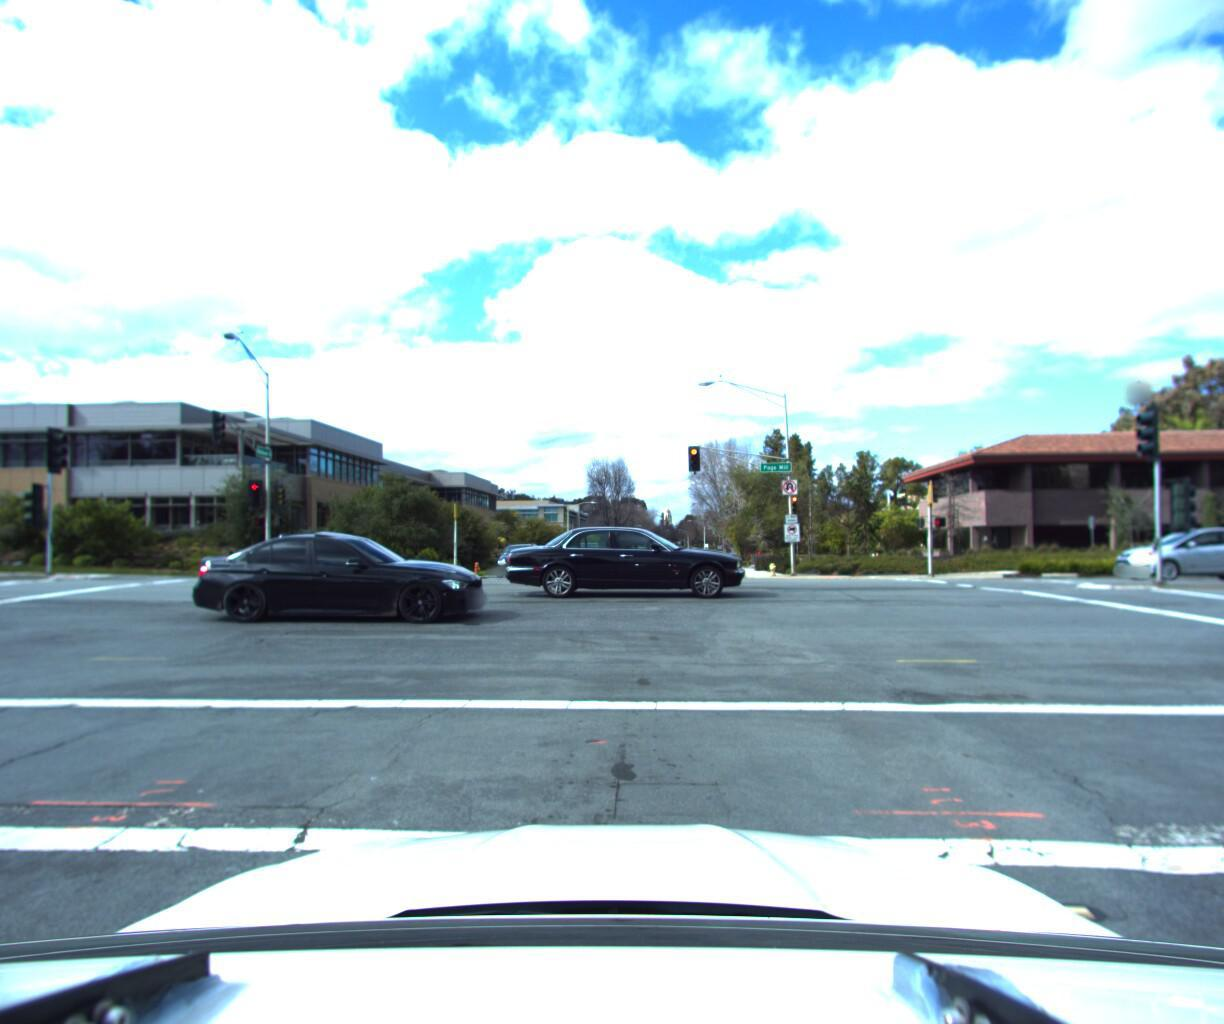car: (195, 532, 500, 622), (495, 527, 745, 600), (1099, 523, 1224, 584), (493, 543, 549, 581), (1216, 534, 1224, 581)
